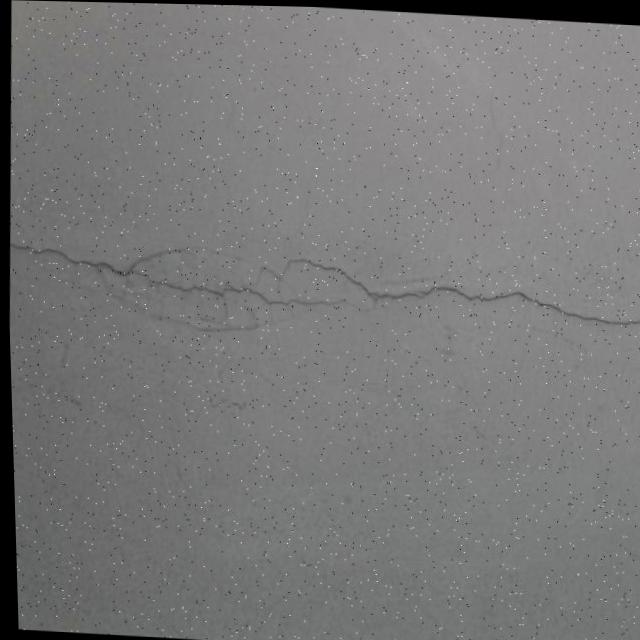Crack: (5, 216, 640, 361)
